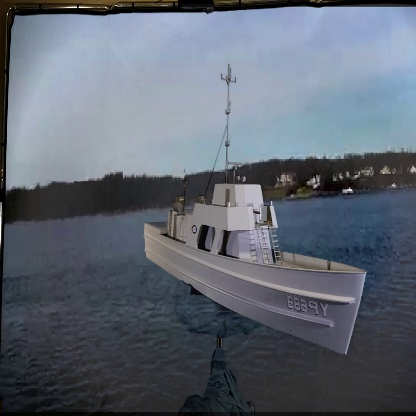YP689: (142, 68, 367, 357)
